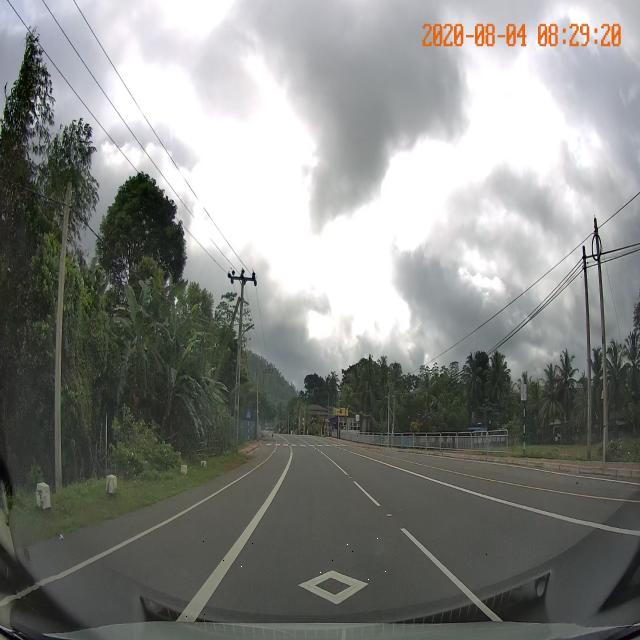diamond: (173, 539, 497, 618)
